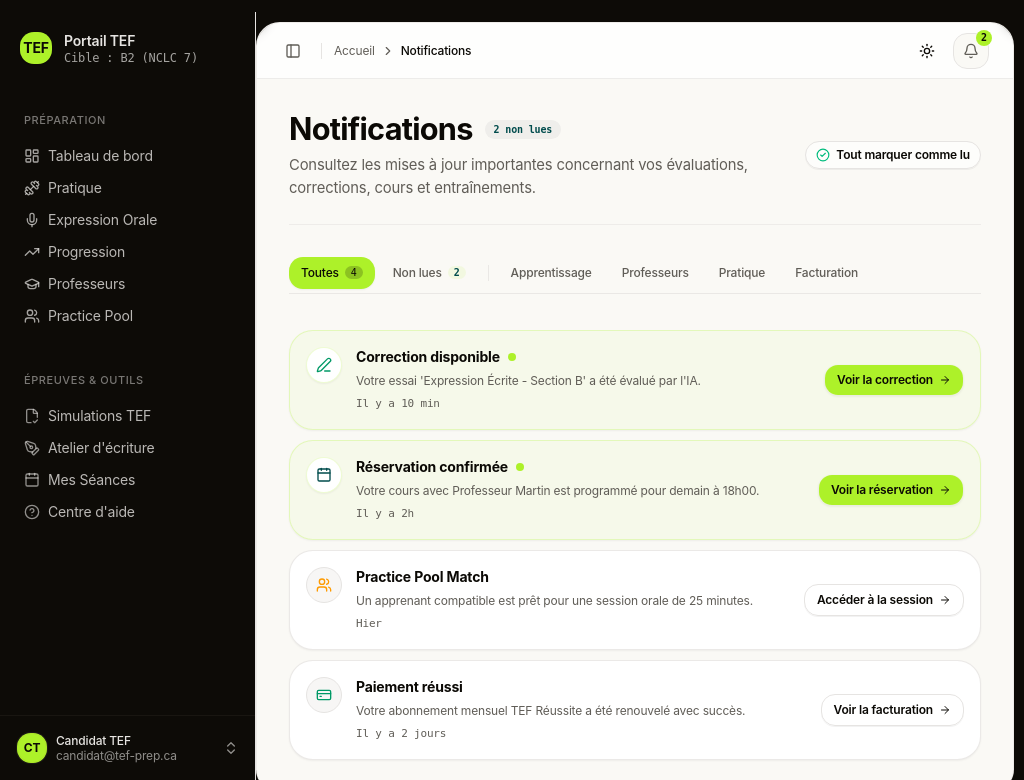
it: Notification Center Experience (/notifications) › filters notifications by category (Apprentissage, Professeurs, Facturation)
Check: the heading "Correction disponible" is shown, box [356, 347, 500, 367]
Click the button "Apprentissage" at [551, 273], box [499, 257, 604, 289]
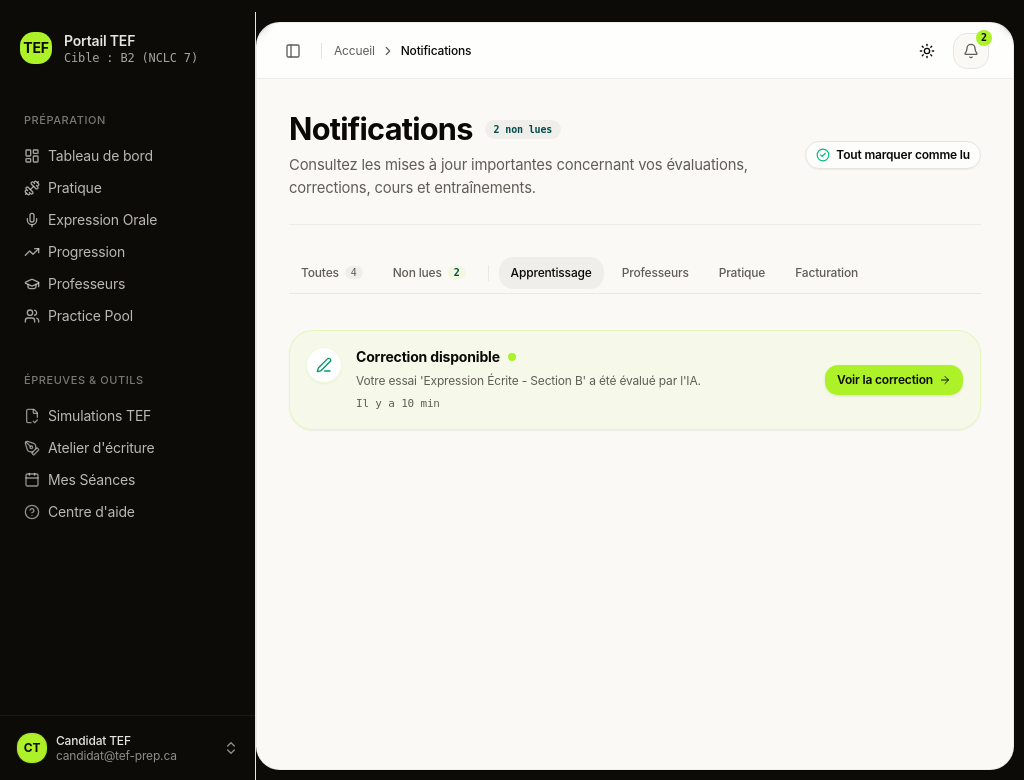
Check: the heading "Correction disponible" is shown, box [356, 347, 500, 367]
Check: the heading "Réservation confirmée" is gone
Click the button "Professeurs" at [655, 273], box [610, 257, 701, 289]
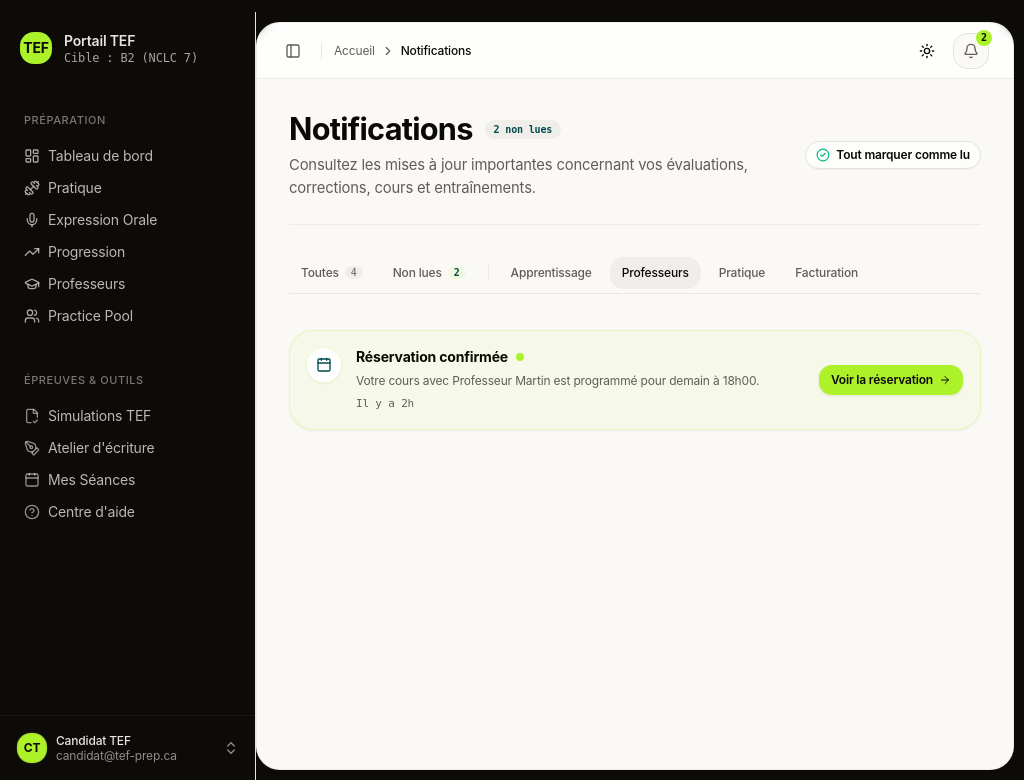
Check: the heading "Réservation confirmée" is shown, box [356, 347, 508, 367]
Check: the heading "Correction disponible" is gone
Click the button "Facturation" at [827, 273], box [783, 257, 870, 289]
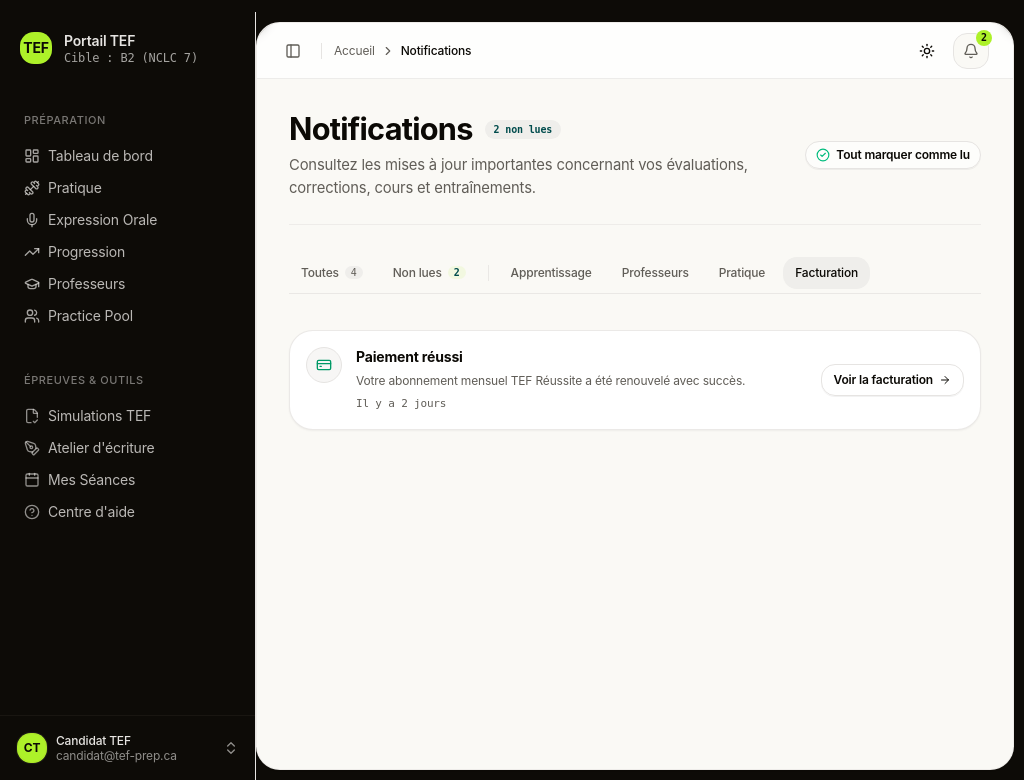
Check: the heading "Paiement réussi" is shown, box [356, 347, 463, 367]
Check: the heading "Réservation confirmée" is gone
